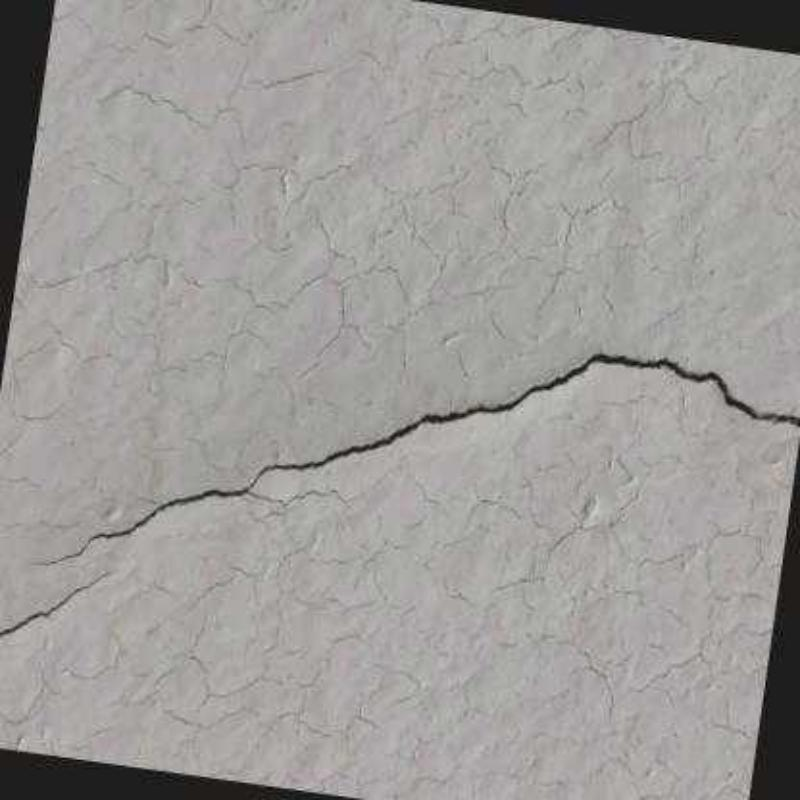pothole: (31, 349, 798, 568), (0, 572, 114, 638)
